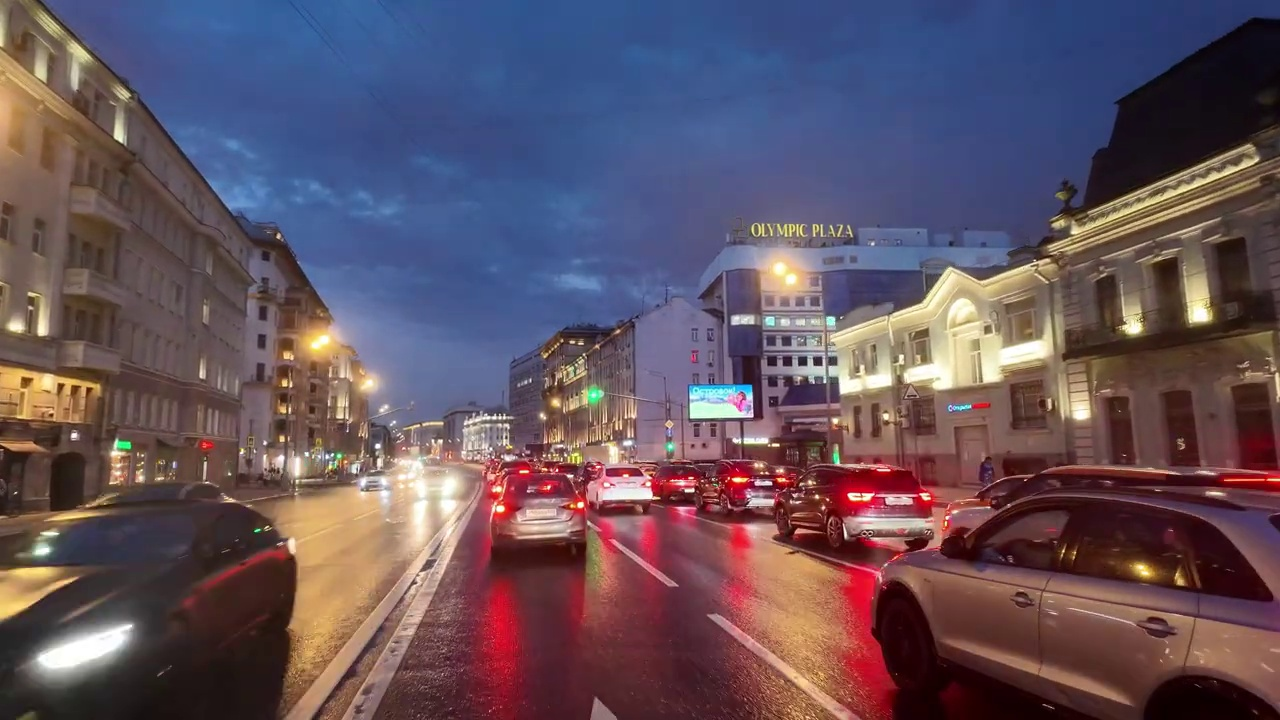acesa: (765, 258, 803, 293), (301, 327, 336, 359)
